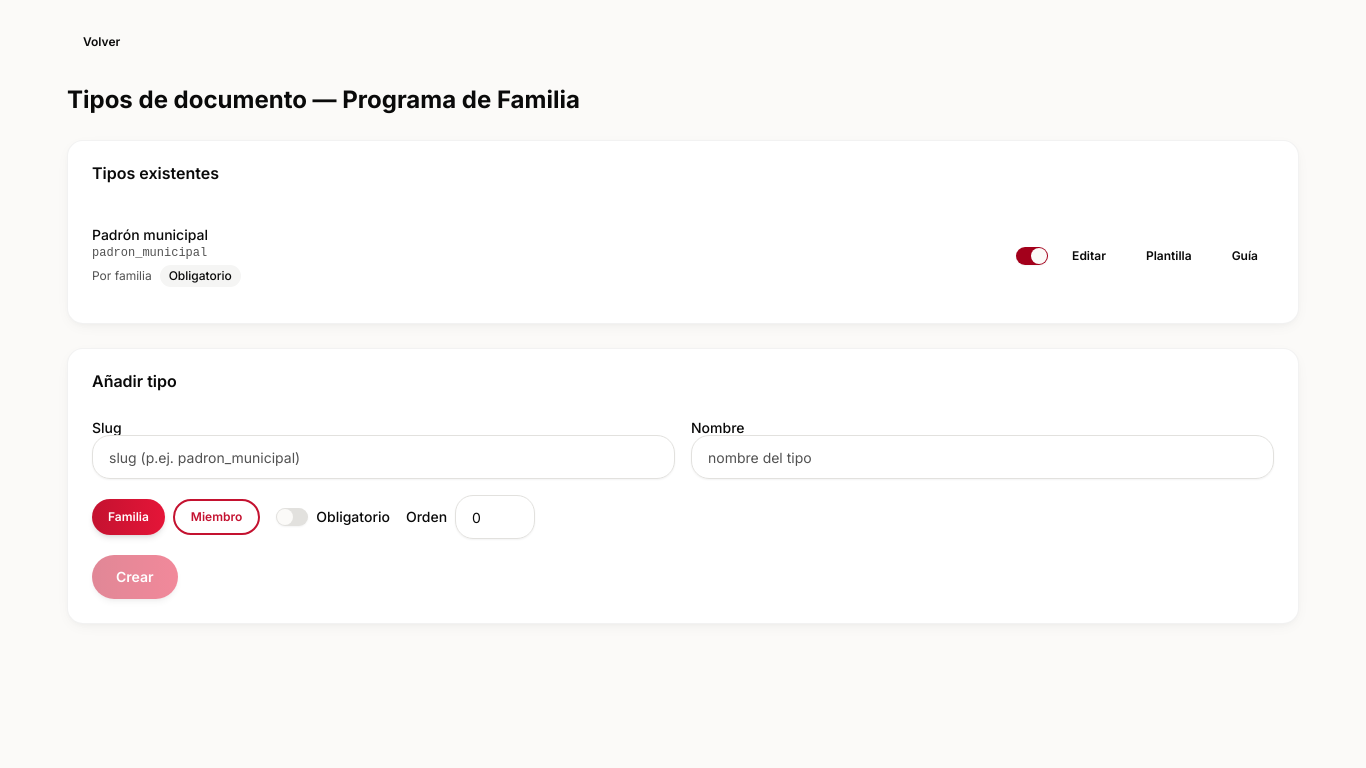
Test case: ProgramaTiposDocumentoPage › clicking Edit opens the edit dialog with the type's current values pre-filled
The image size is (1366, 768).
Expected: the text "Padrón municipal" is shown, top-left (92, 226), bottom-right (208, 243)
Click the button with aria-label "Editar Padrón municipal" at (1089, 256), box top-left (1056, 238), bottom-right (1122, 274)
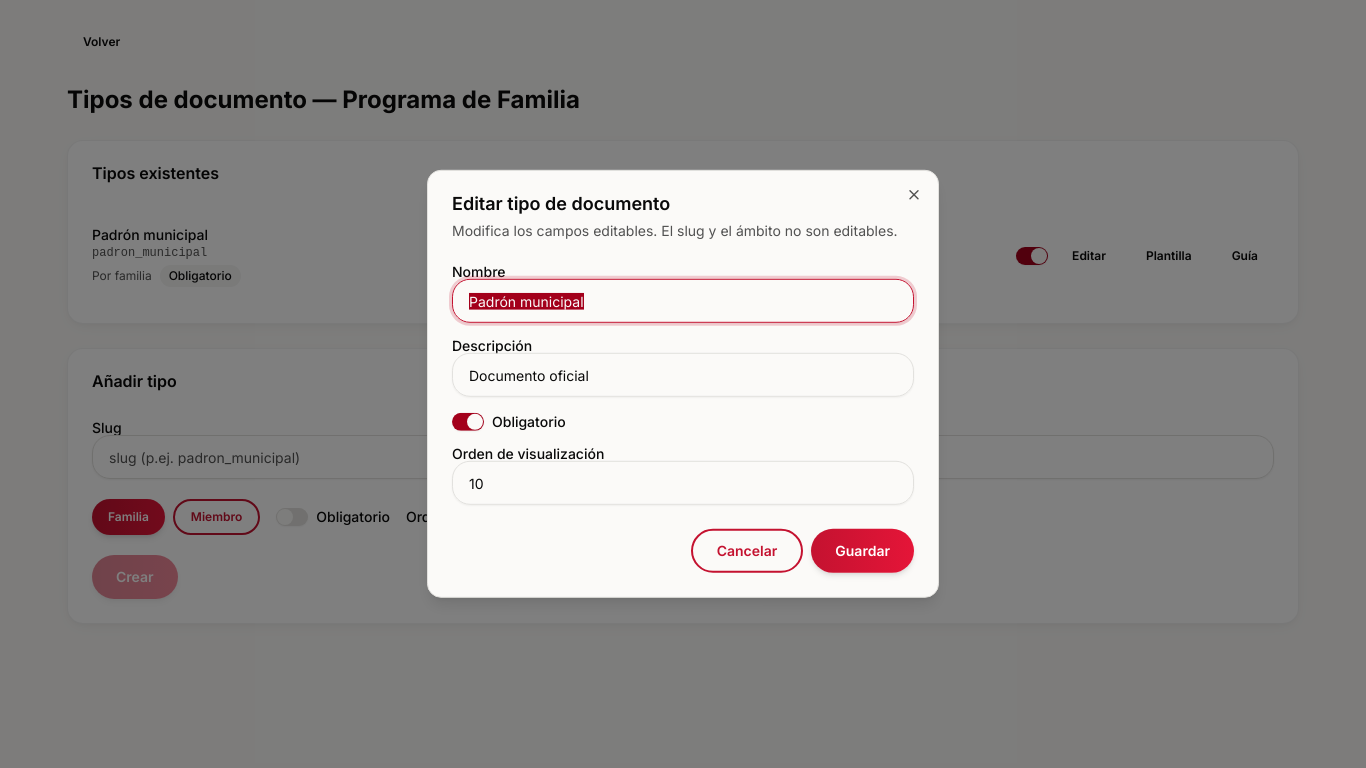
Expected: the field showing "Padrón municipal" is shown, top-left (452, 279), bottom-right (914, 323)
